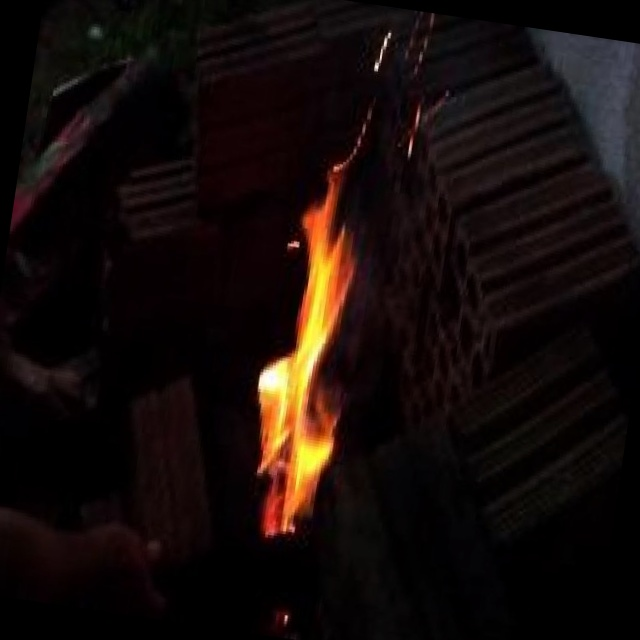fire: (190, 118, 422, 566)
